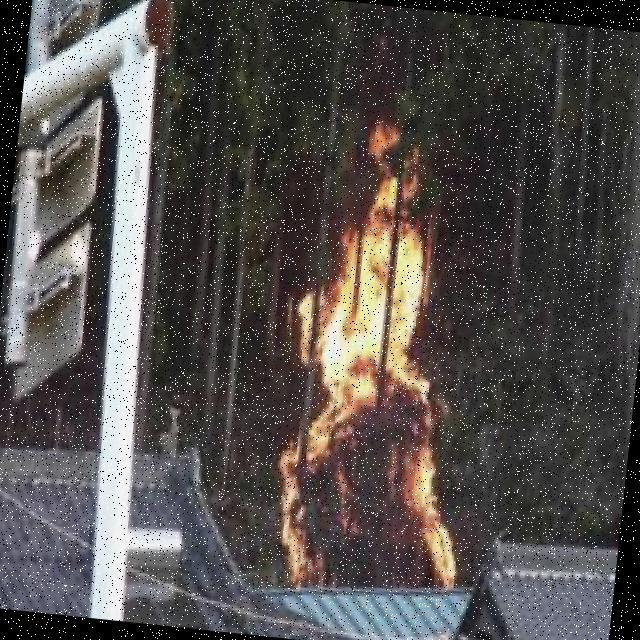Fire: (265, 107, 498, 604)
